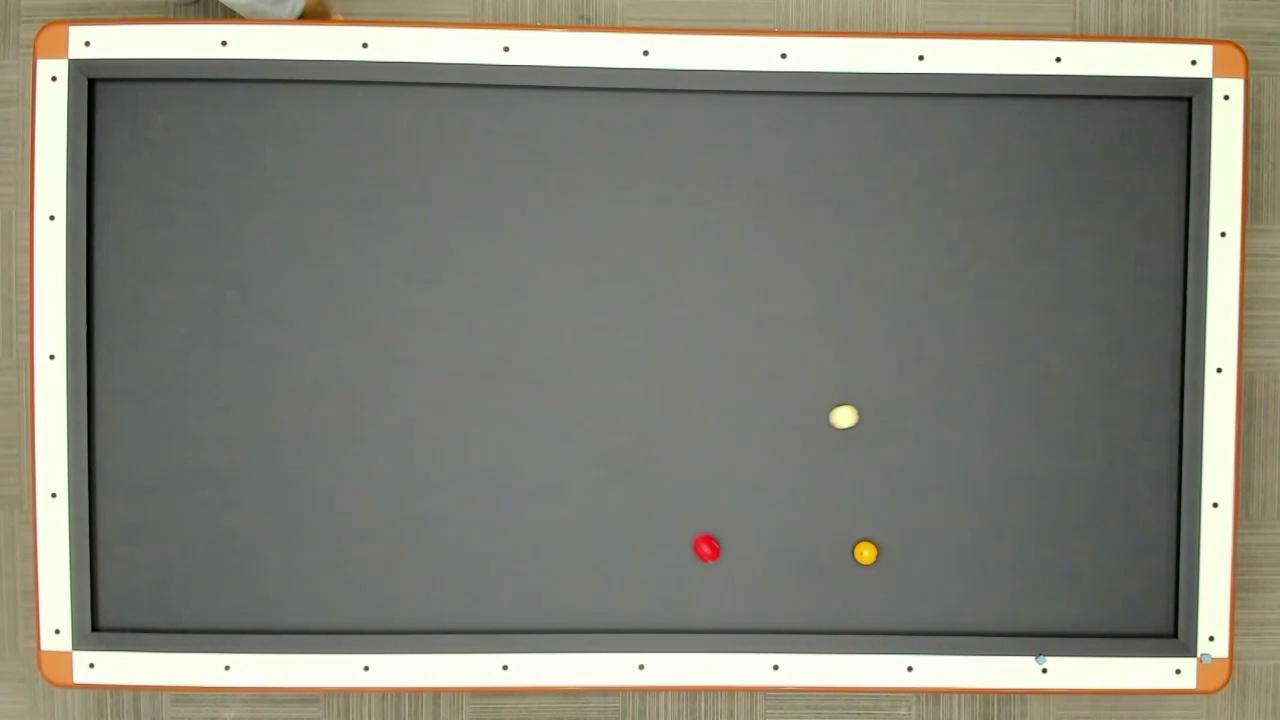Red: (691, 532, 722, 564)
White: (828, 403, 862, 430)
Yellow: (852, 539, 879, 567)
